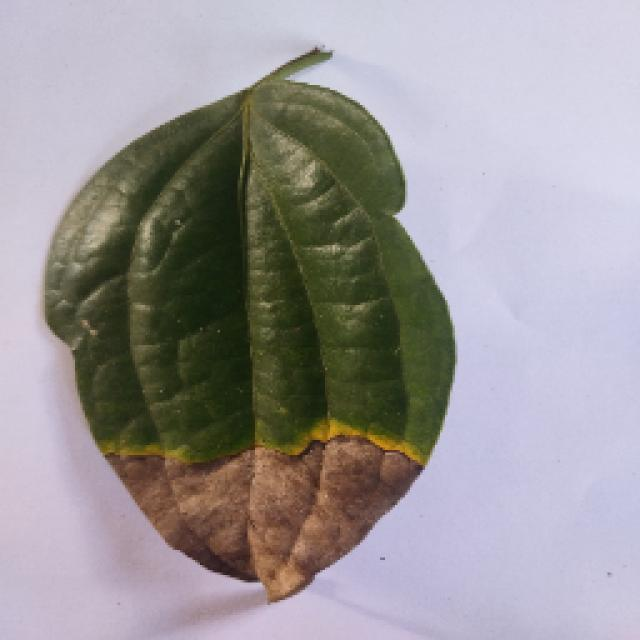footrot: (32, 57, 469, 640)
